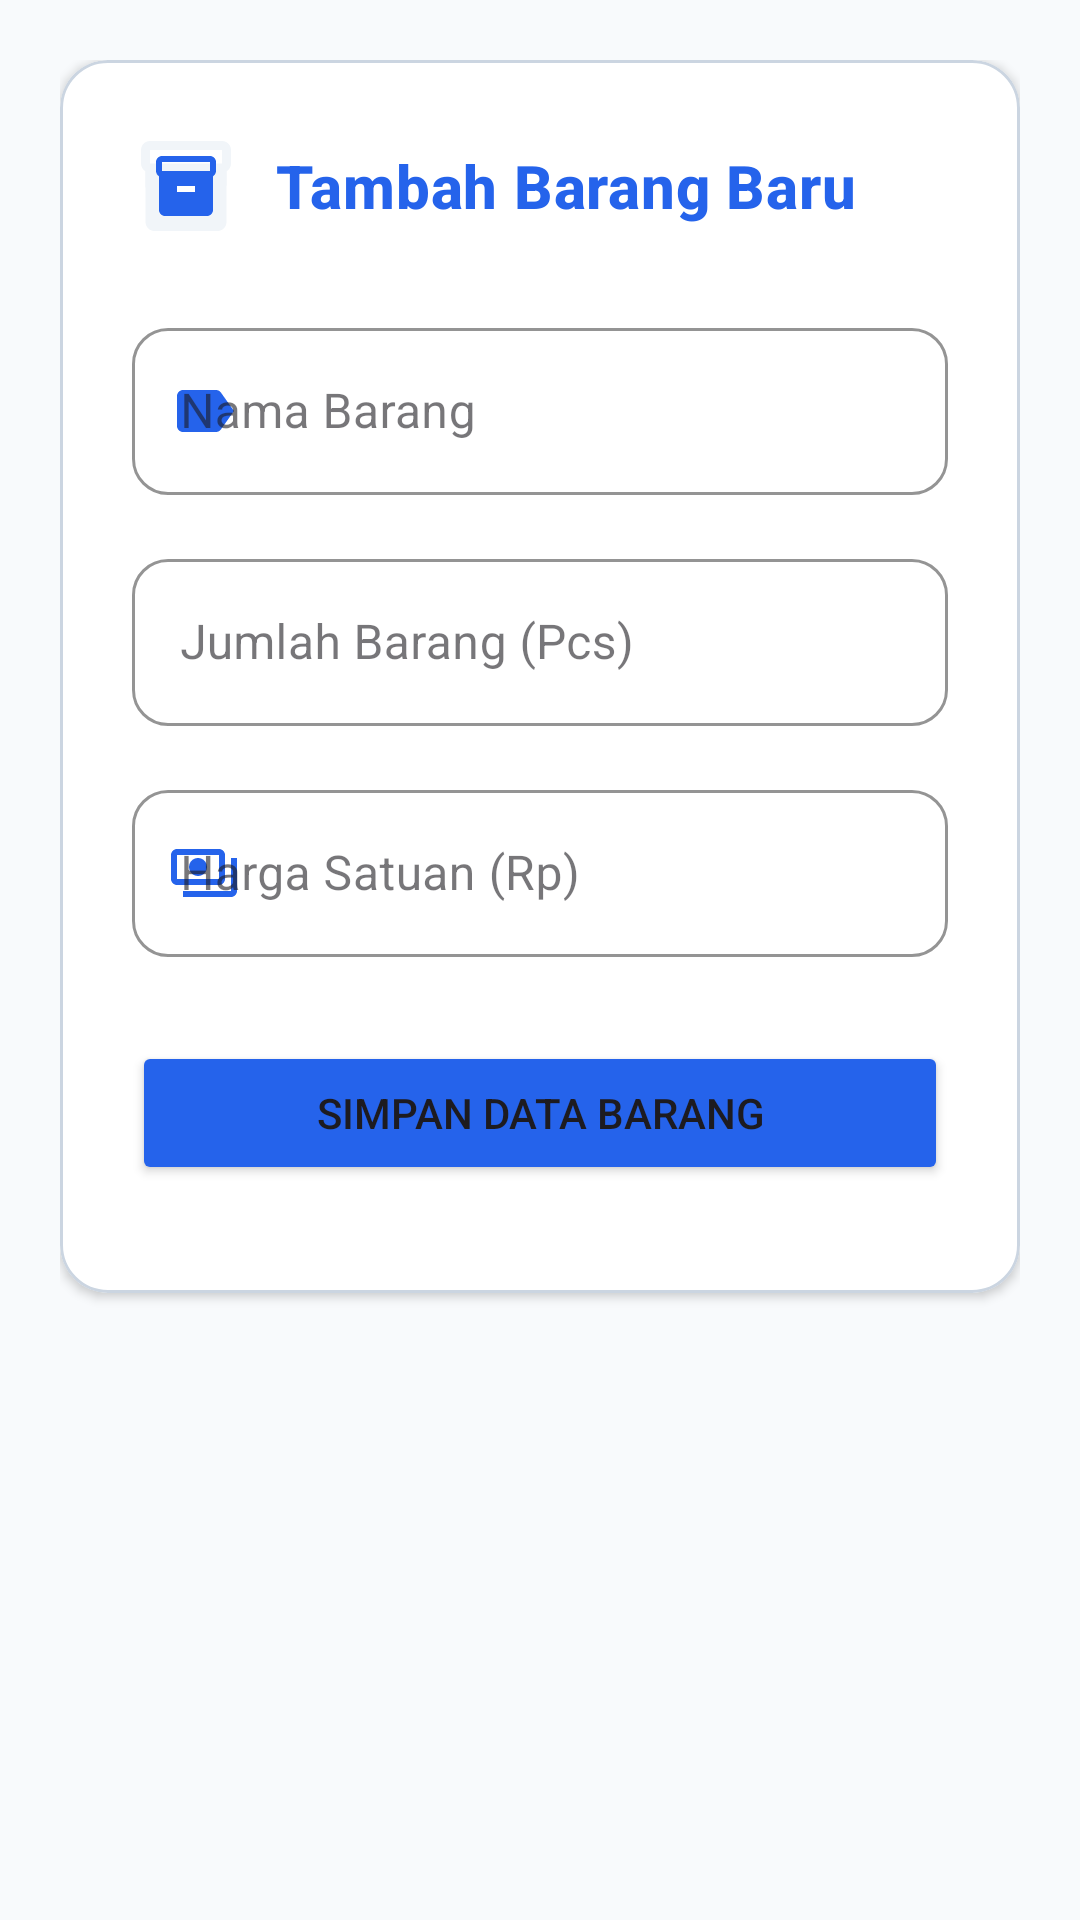

Icon click points for this 1080px x 1920px phone screenshot, format (x=x, y=y):
Form Header Icon: (x=186, y=186)
